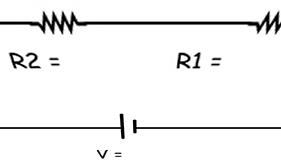resistor: (32, 7, 88, 37), (253, 4, 280, 37)
